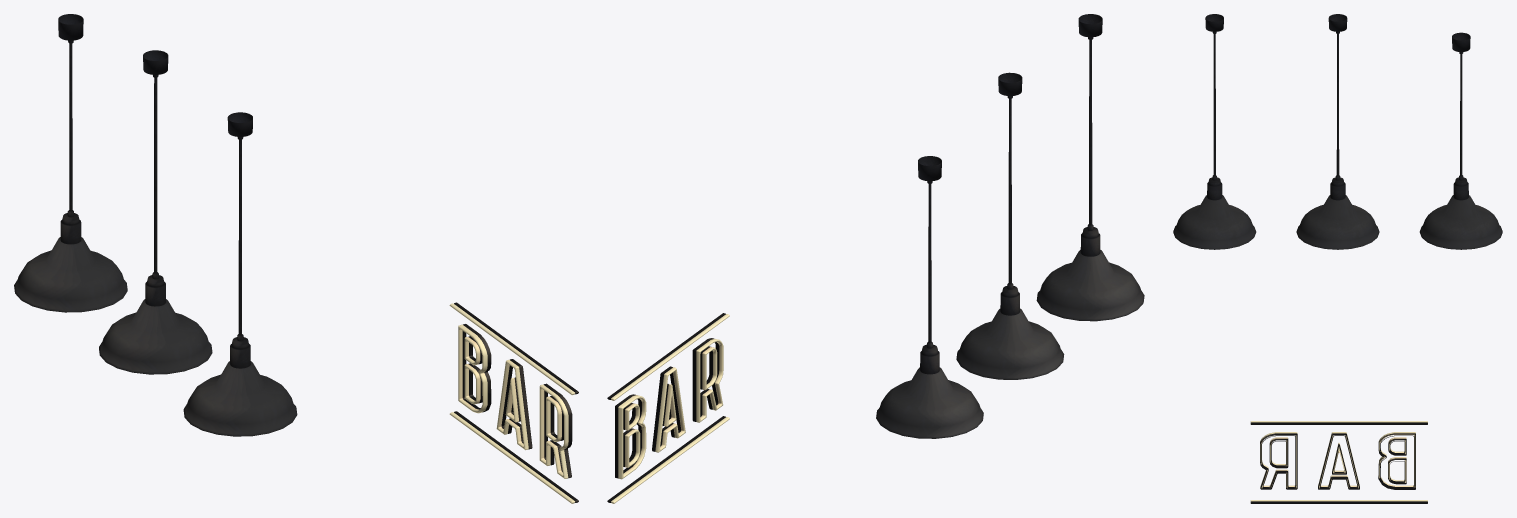
The model's file is CommunityRoomB_BarLight.fbx.
The picture shows the model from 3 angles, left to right: view 1: azimuth 30°, elevation 25°; view 2: azimuth 150°, elevation 25°; view 3: azimuth 270°, elevation 25°; orthographic projection. The views are drawn at different scales.
Visible parts, largest first — view 1: CommunityRoomB_BarLight; view 2: CommunityRoomB_BarLight; view 3: CommunityRoomB_BarLight.
Part boxes in pixels (bbox=[...]): CommunityRoomB_BarLight: bbox=[14, 14, 578, 503]; CommunityRoomB_BarLight: bbox=[607, 14, 1144, 503]; CommunityRoomB_BarLight: bbox=[1173, 14, 1502, 503].
Size of the model in its own units: 169 by 192 by 160.
